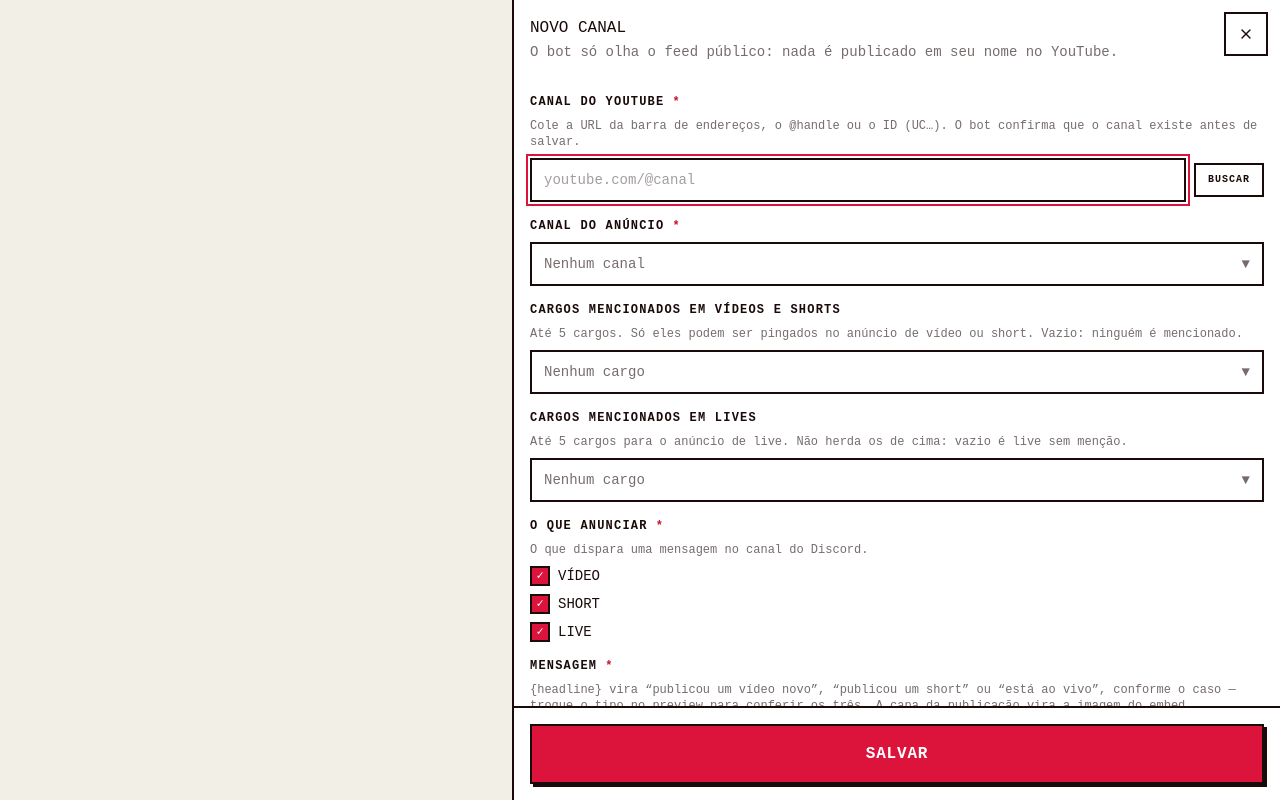
Test: AccountSheet — campo do canal › mostra a mensagem do bot no campo quando o canal não existe
The width and height of the screenshot is (1280, 800).
Type "@naoexiste-xyz-goodbot" into the field with placeholder "youtube.com/@canal" at (858, 180), box [530,158,1186,202]
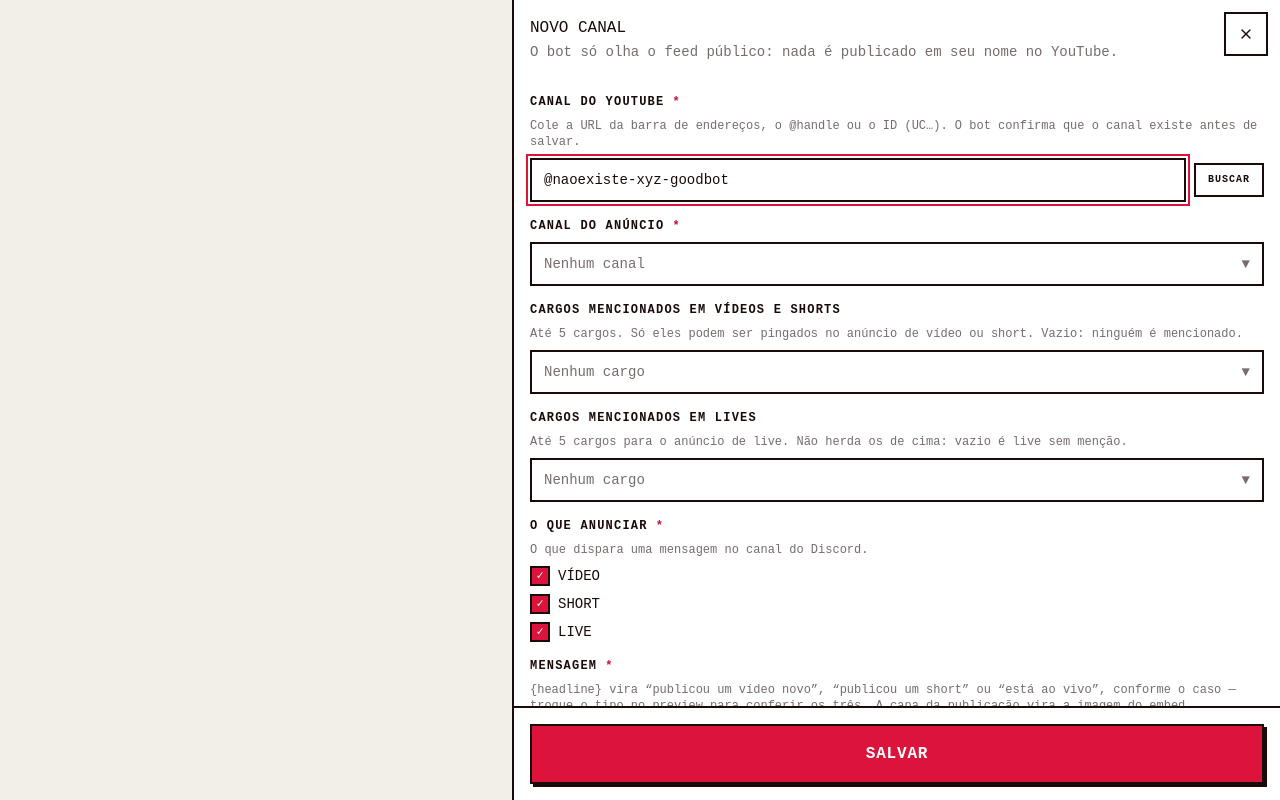
Click the button "BUSCAR" at (1229, 180), box [1194,163,1264,197]
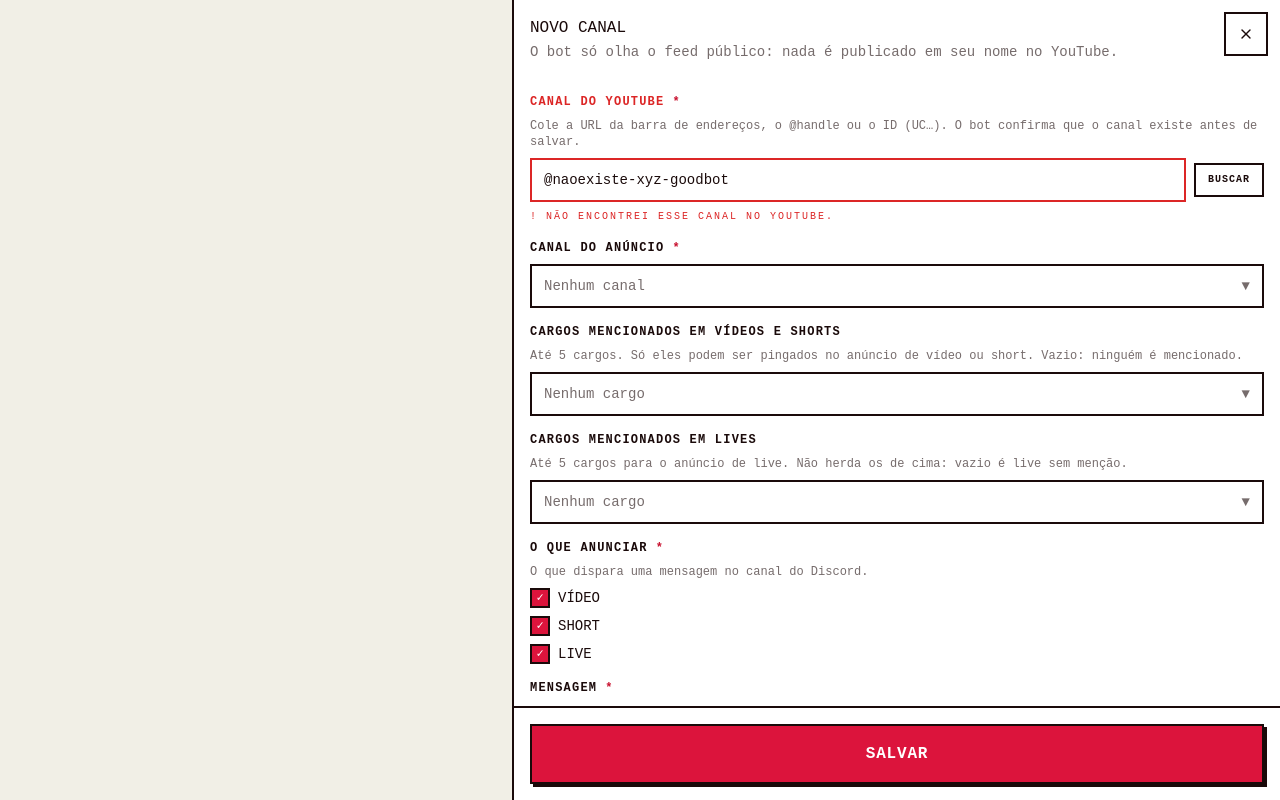
Result: the text "! Não encontrei esse canal no YouTube." is shown at [530,211,834,222]
